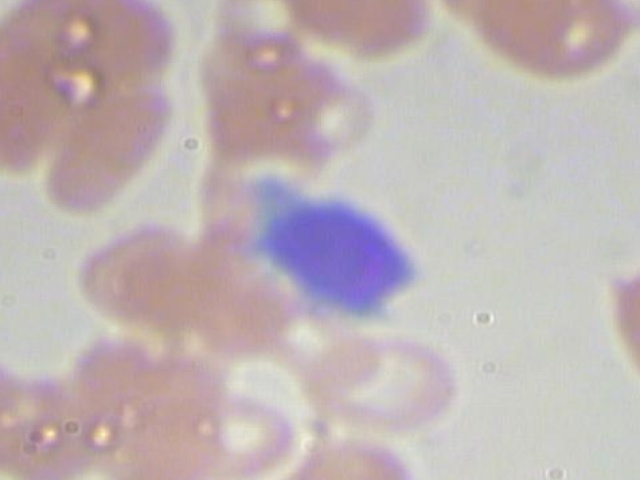WBC: (246, 172, 456, 329)
